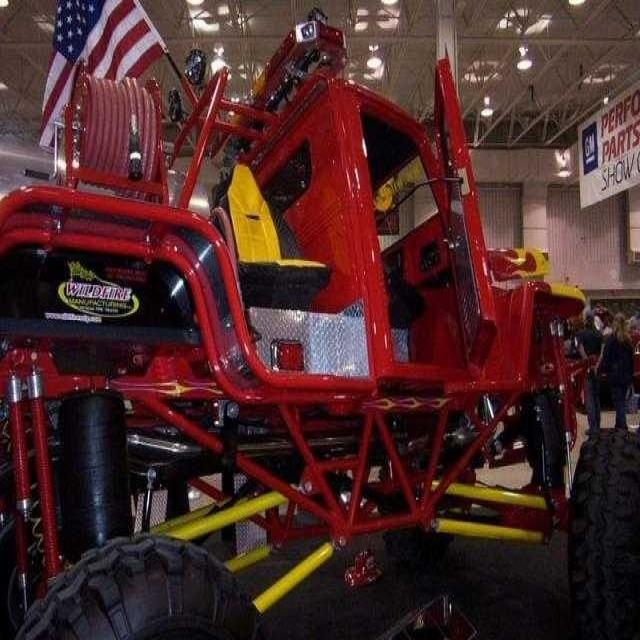ambulance: (18, 4, 631, 488)
